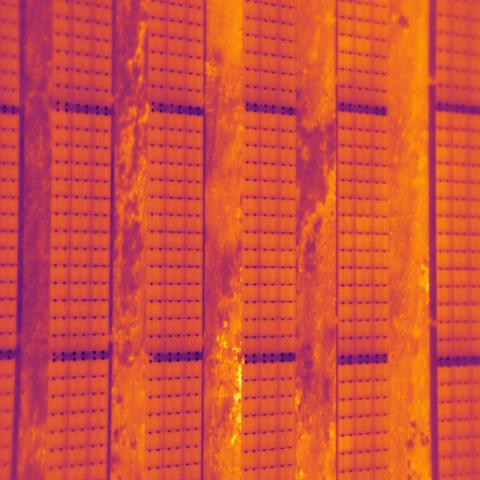fault: (337, 436, 355, 454)
